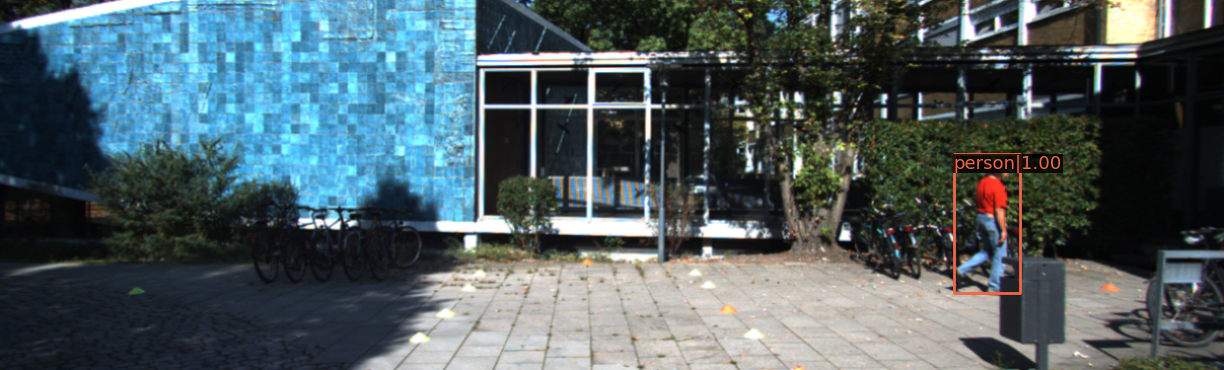person: (950, 155, 1027, 299)
